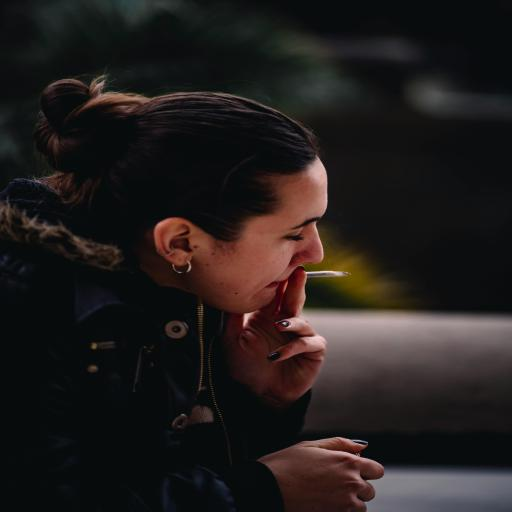terdeteksi merokok: (232, 169, 373, 333)
